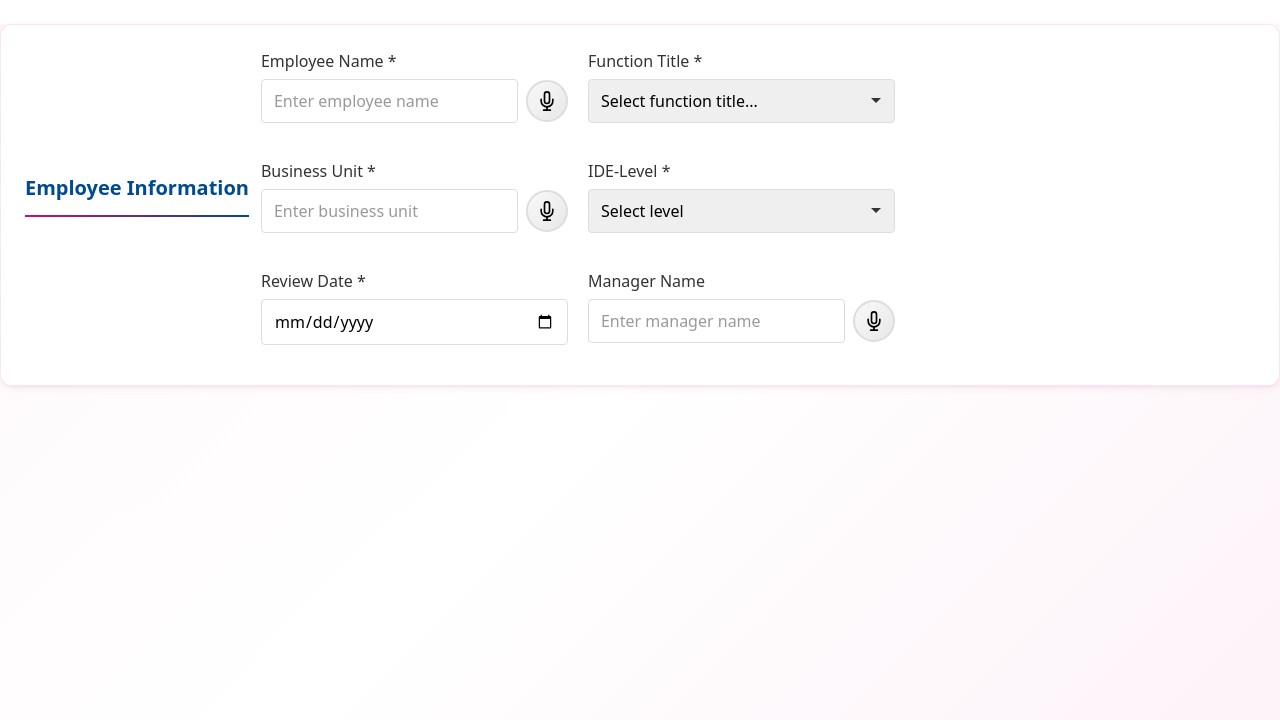
Test: EmployeeInfo › should show auto-applied badge when function title with TOV mapping is selected
# Select function title with TOV level mapping
Select "Software Engineer (B)" in the dropdown labelled "Function Title *" at [742, 101], box [588,79,895,123]
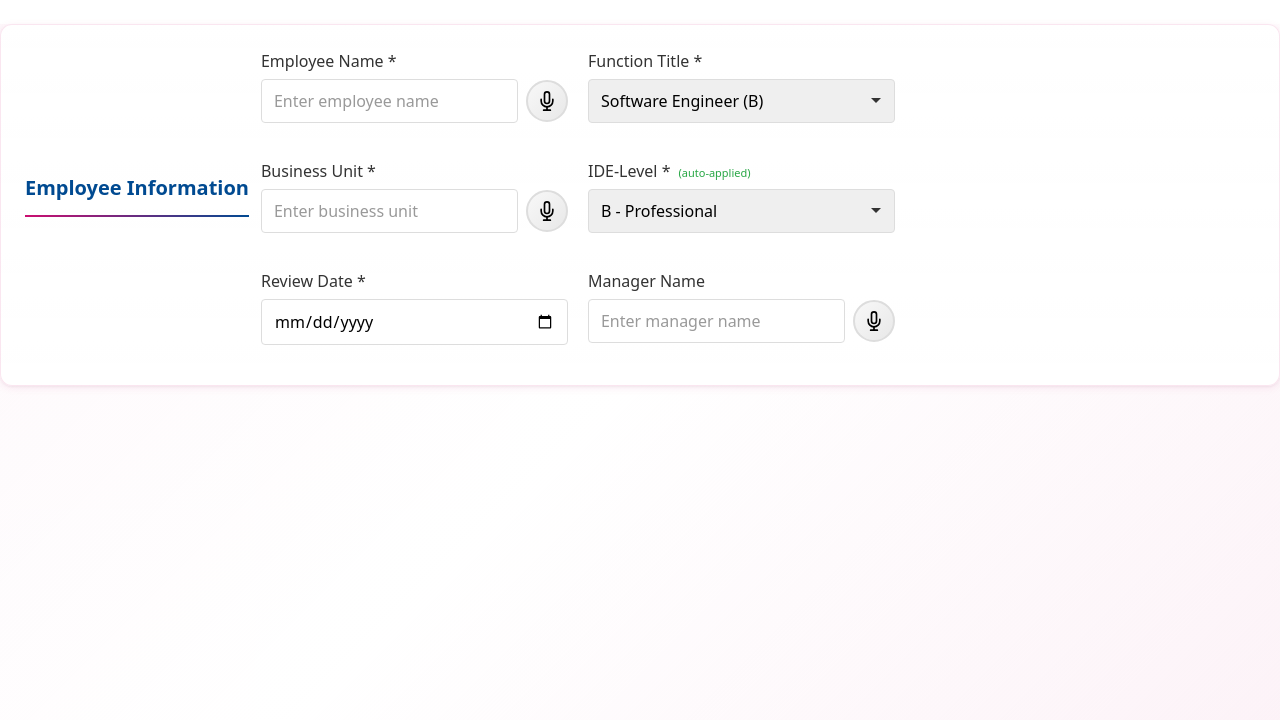
Expected: the text "(auto-applied)" is shown, [678,165,751,180]
